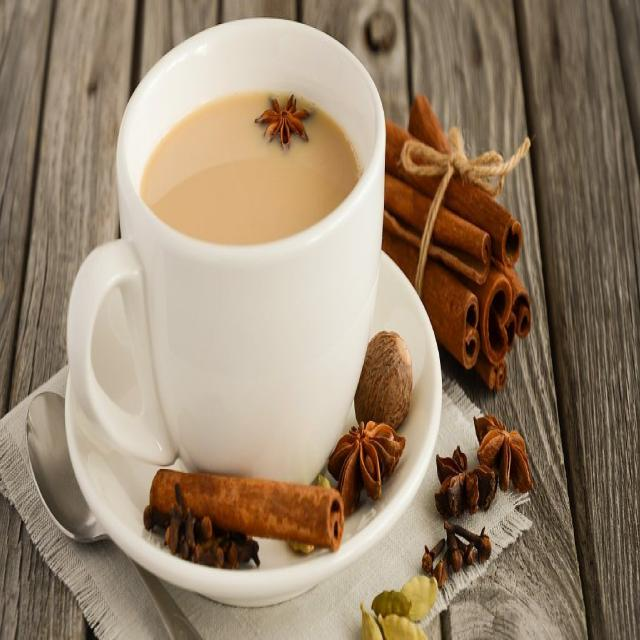Chai: (140, 91, 362, 253)
